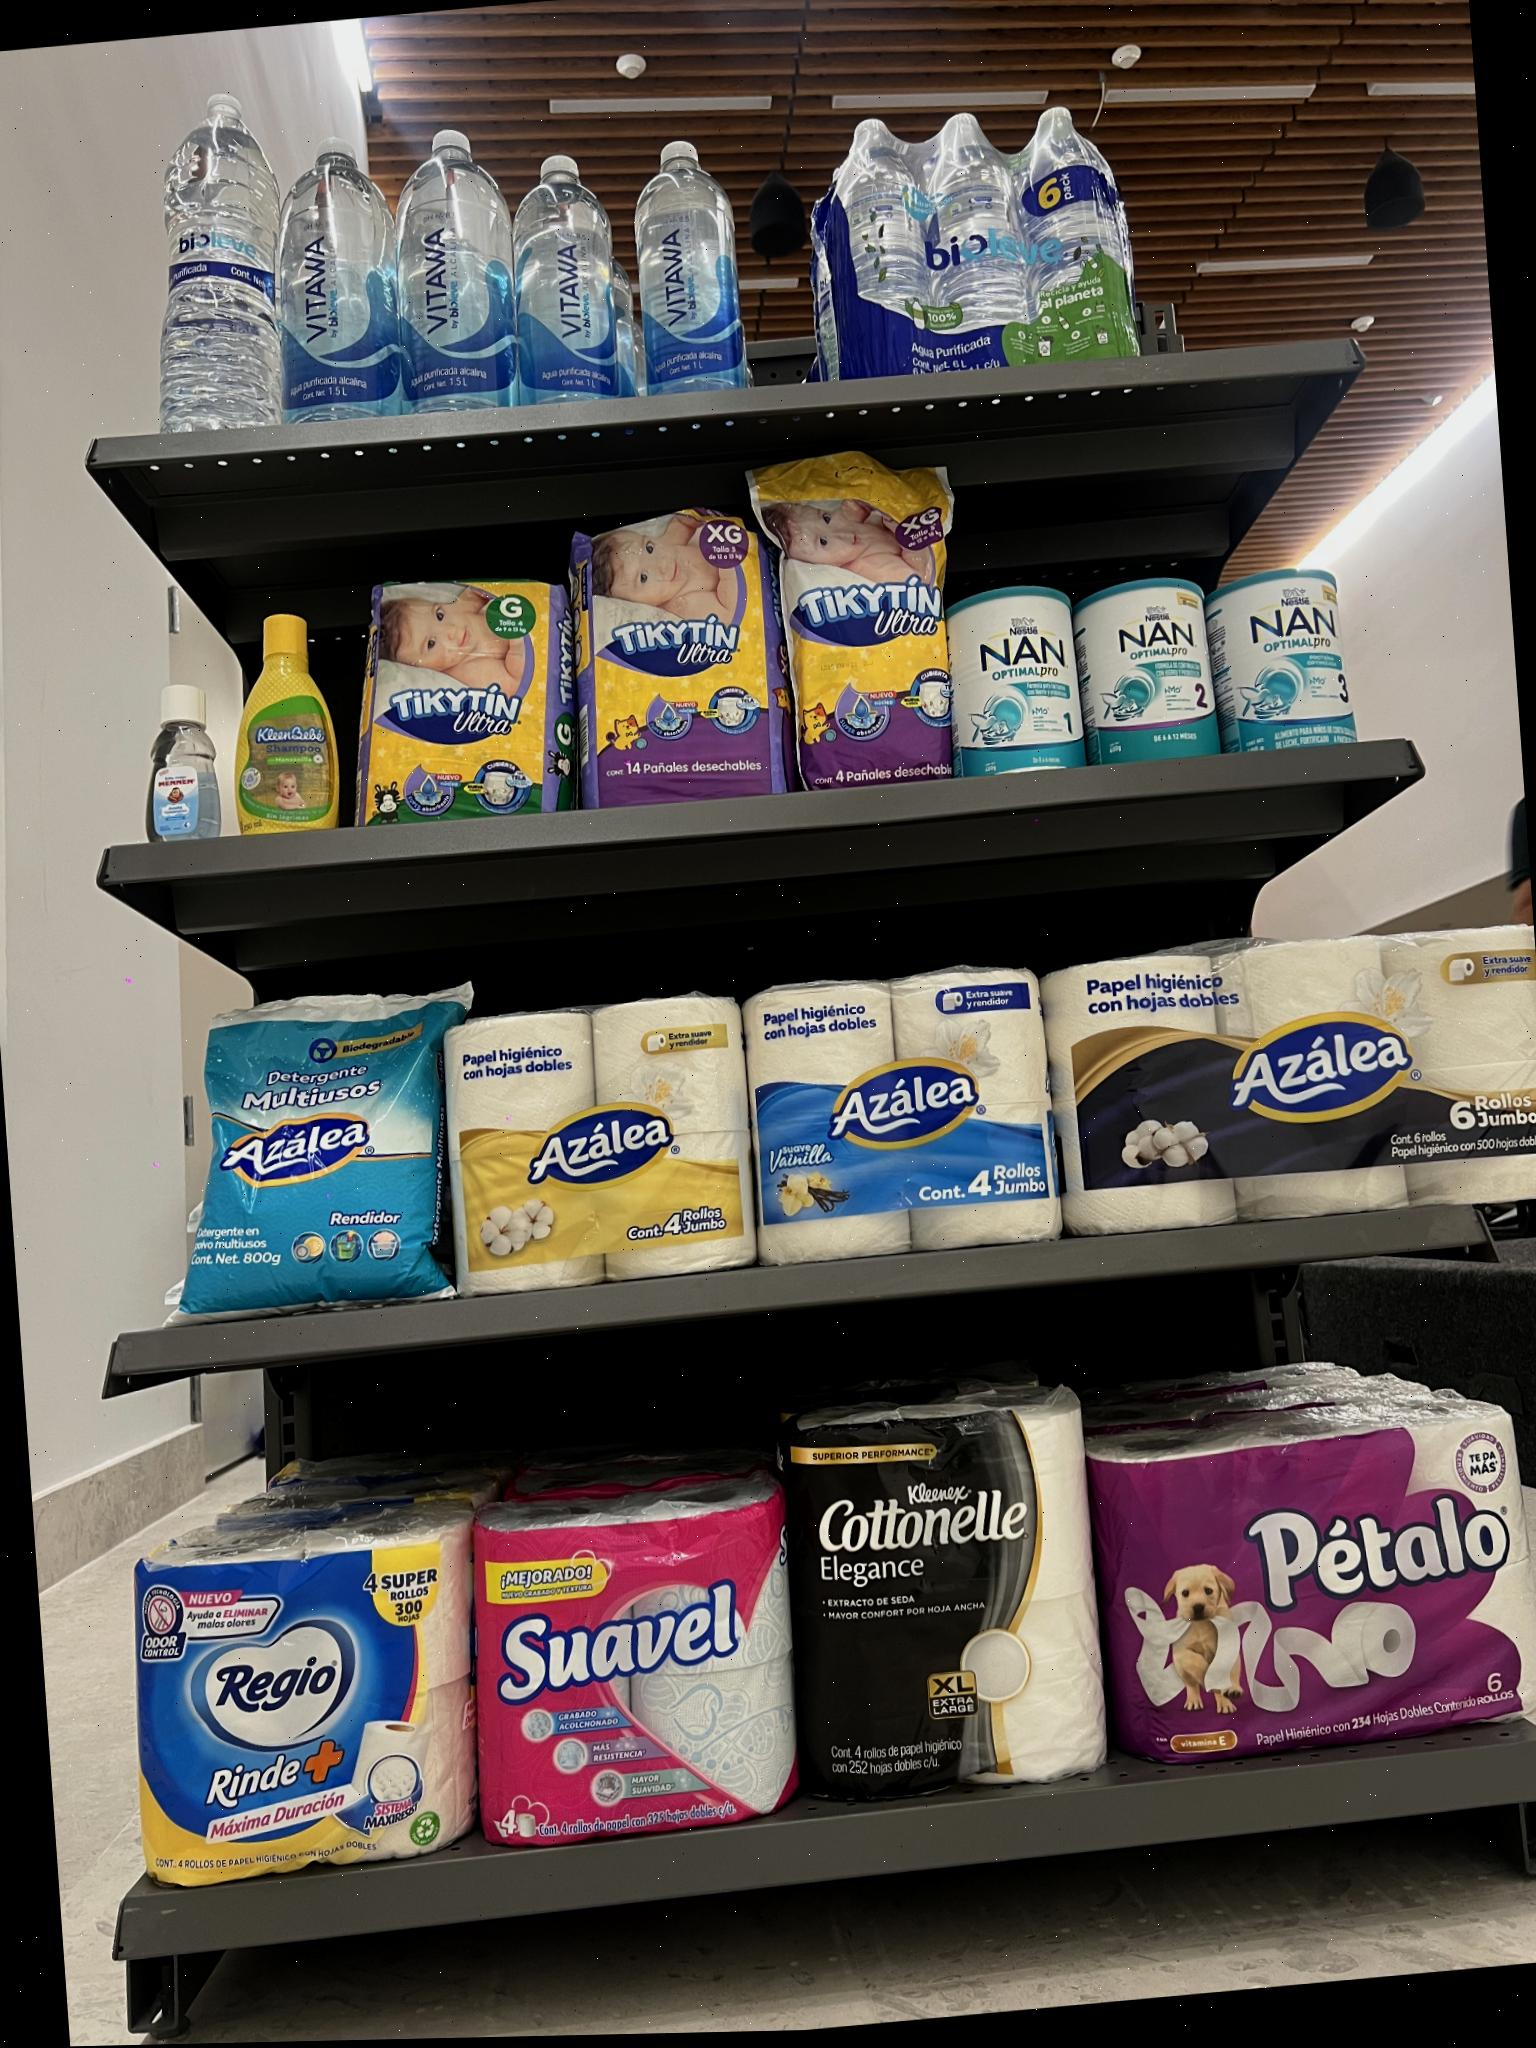aceite_bebe_mennen: (129, 679, 226, 845)
agua_bioleve: (139, 81, 281, 434)
agua_bioleve_6pack: (807, 90, 1142, 392)
agua_vitawa_1L: (621, 129, 749, 393), (510, 139, 623, 403)
agua_vitawa_1_5L: (387, 118, 523, 414), (278, 126, 402, 418)
detergente_azaela: (187, 987, 436, 1319)
nan_nestle_1: (936, 574, 1086, 785)
nan_nestle_2: (1068, 566, 1221, 760)
nan_nestle_3: (1196, 560, 1360, 756)
panales_tikytin_extragrande: (744, 440, 970, 798), (557, 495, 787, 811)
panales_tikytin_grande: (344, 556, 578, 822)
papelhigenico_azaela_6rollos: (1037, 913, 1536, 1235)
papelhigenico_azaela_amarillo: (444, 989, 747, 1284)
papelhigenico_azaela_azul: (729, 945, 1049, 1259)
papelhigenico_kleenex_cottonelle: (771, 1376, 1110, 1803)
papelhigenico_petalo: (1083, 1398, 1536, 1771)
papelhigenico_regio: (127, 1527, 479, 1887)
papelhigenico_suavel: (455, 1472, 794, 1854)
shampoo_bebe: (231, 598, 334, 834)
